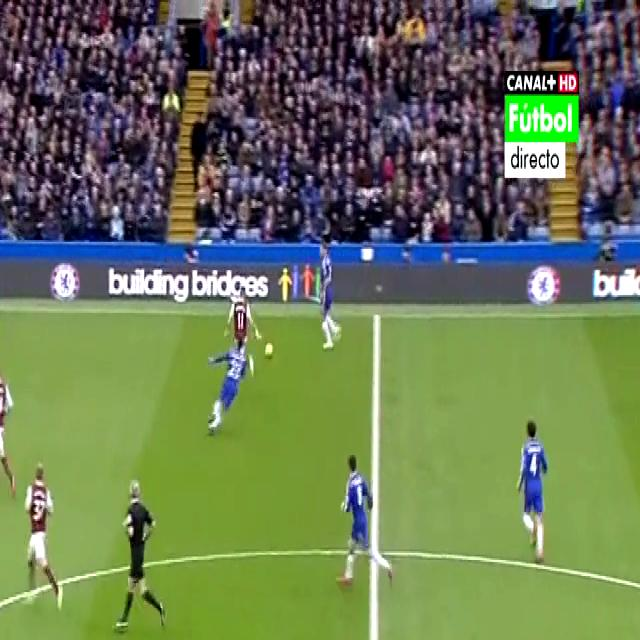ball: (260, 336, 281, 365)
referee: (114, 466, 170, 640)
soccer-player: (339, 438, 394, 590), (20, 458, 64, 616), (511, 415, 556, 565), (311, 233, 346, 352), (207, 342, 252, 422), (220, 280, 260, 358), (0, 359, 17, 494)
